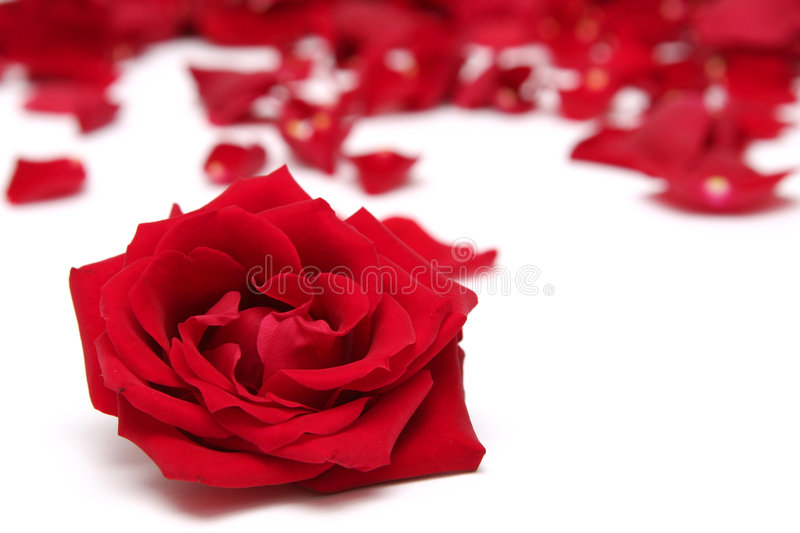RedRose: (57, 166, 521, 510)
